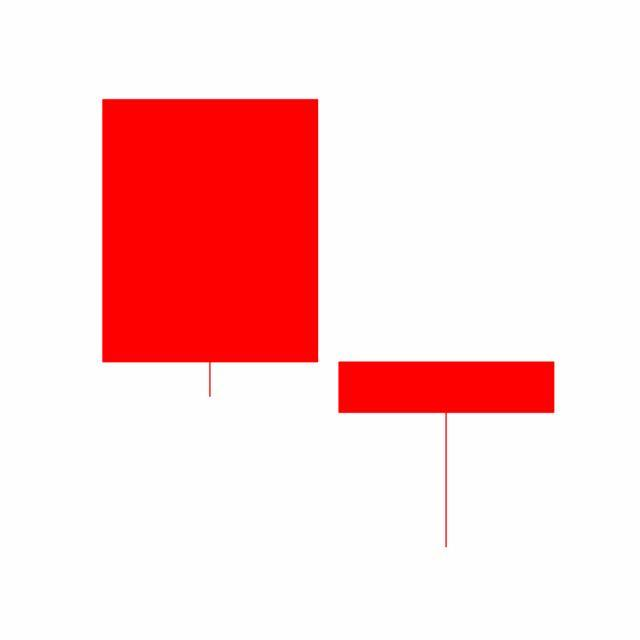Hammer: (328, 360, 566, 551)
